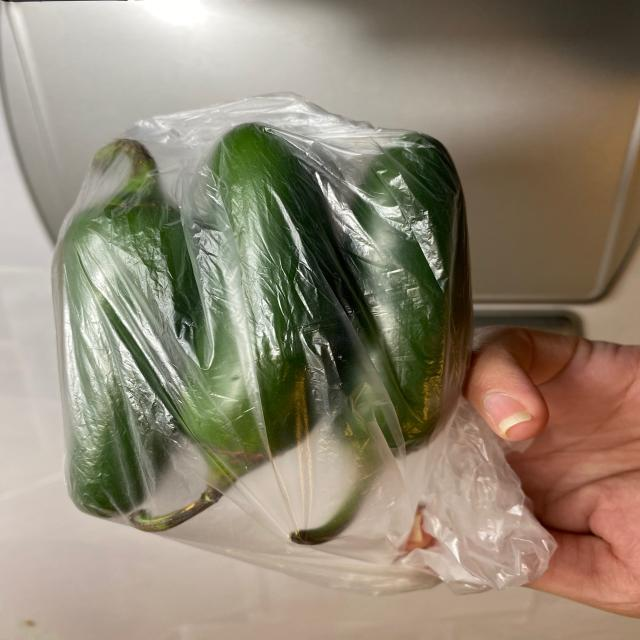chilli: (48, 116, 492, 563)
